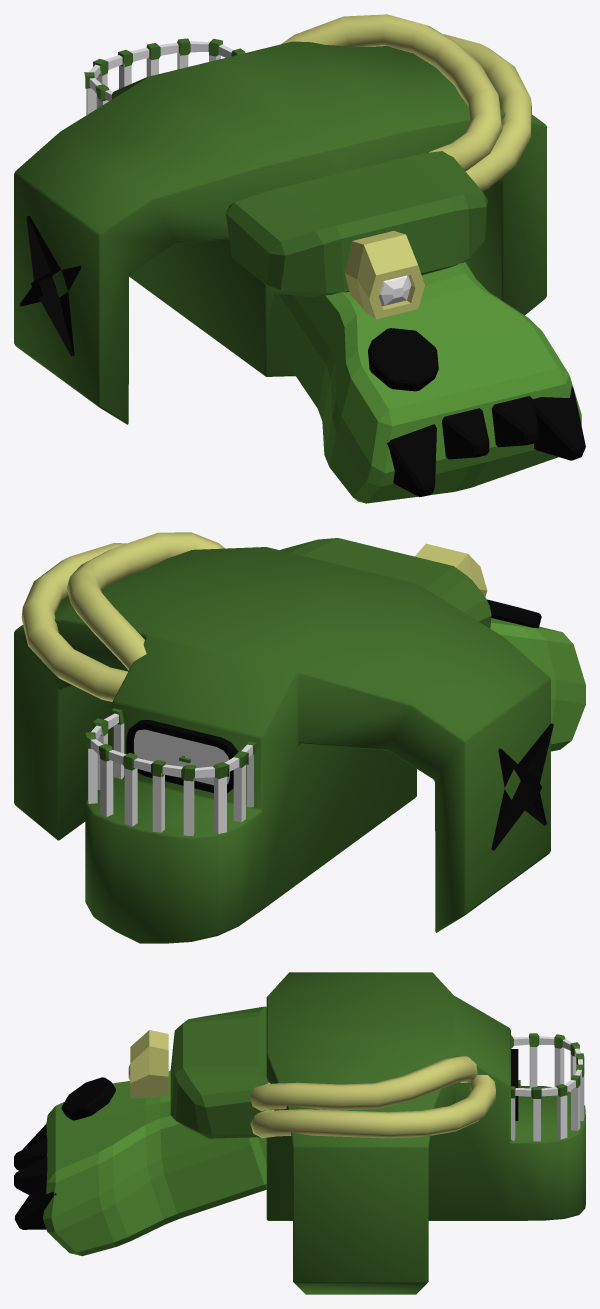
The model's file is body.glb.
3 views of the same model, one above another, from view 1: azimuth 30°, elevation 25°; view 2: azimuth 150°, elevation 25°; view 3: azimuth 270°, elevation 25° (orthographic). The views are drawn at different scales.
Visible parts, largest first — view 1: Cube.001; view 2: Cube.001; view 3: Cube.001.
Boxes of the visible parts, box(x1,y1,x2,y2) form: Cube.001: box(14, 14, 585, 503); Cube.001: box(14, 532, 585, 943); Cube.001: box(14, 972, 585, 1294).
Bounding box in the file's own units: 5.62 × 3.12 × 7.39.
